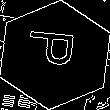P_E: (26, 34, 84, 76)
